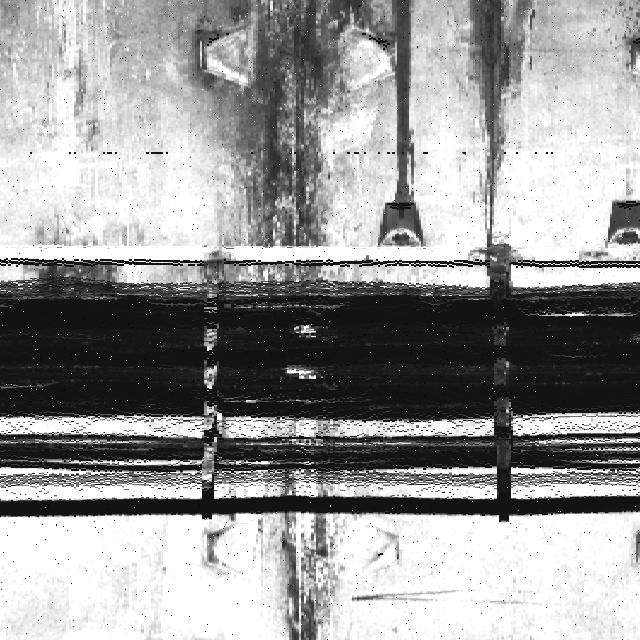leakage: (222, 0, 346, 282), (250, 481, 360, 639), (464, 0, 535, 230), (385, 0, 434, 205)
